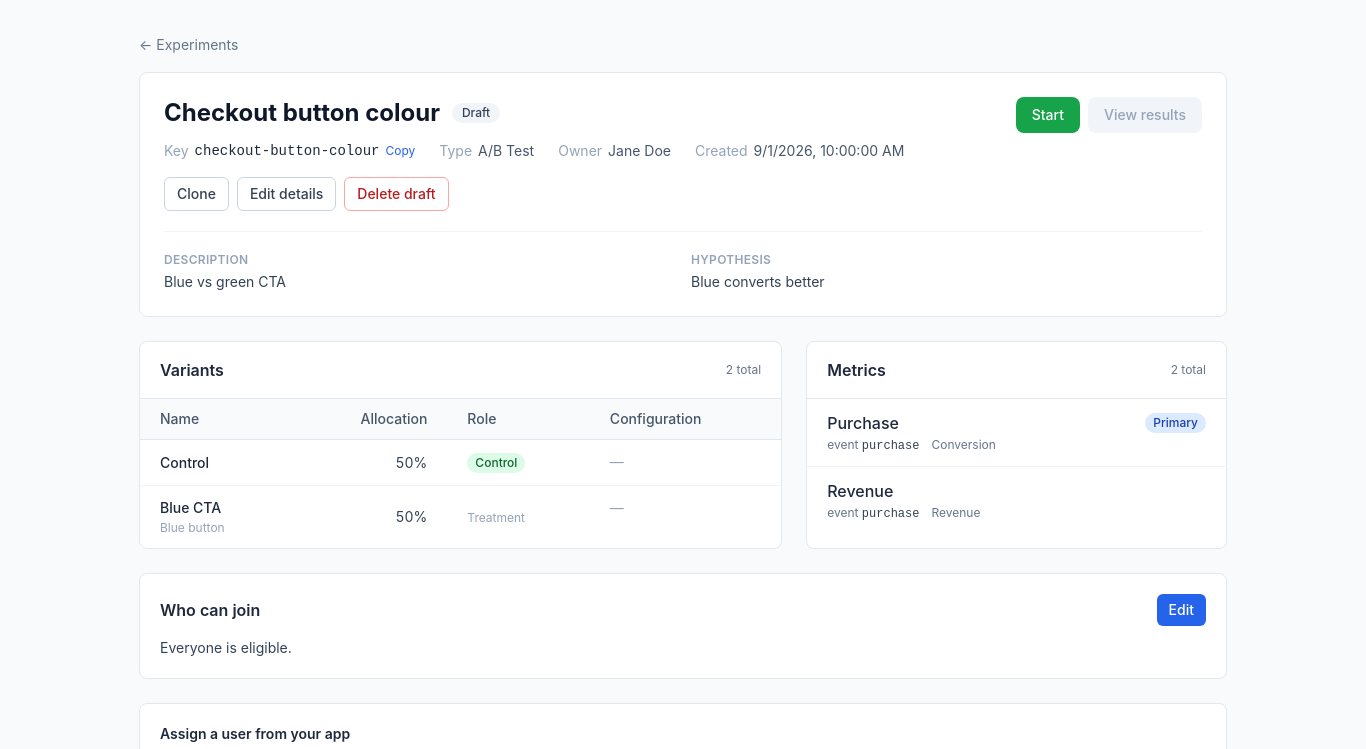
ExperimentDetailPage — the owner's name (#921) › keeps the name after Edit details is saved
The image size is (1366, 749).
Click the button with test id "experiment-edit-details" at (287, 194), box [237,177,336,211]
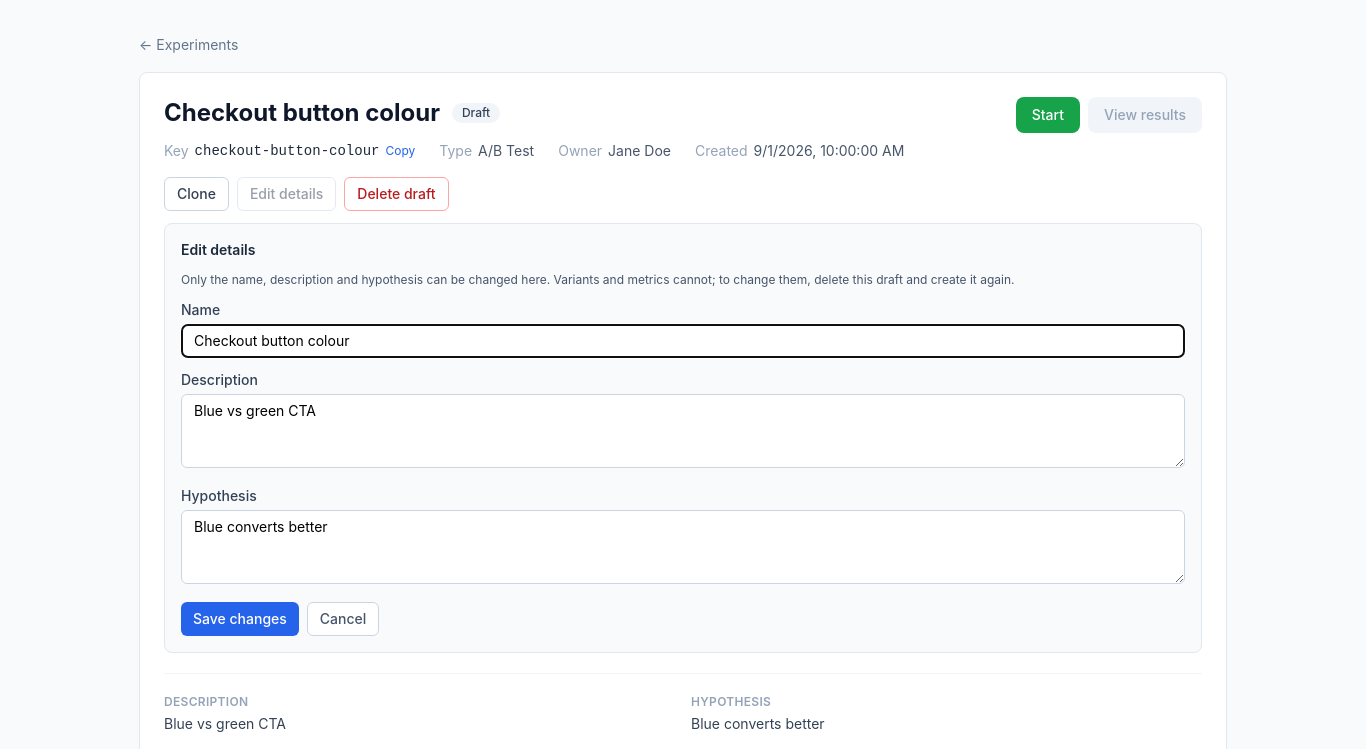
Replace the text in the field with test id "manage-edit-name" with "Renamed" at (683, 341), box [181,324,1185,358]
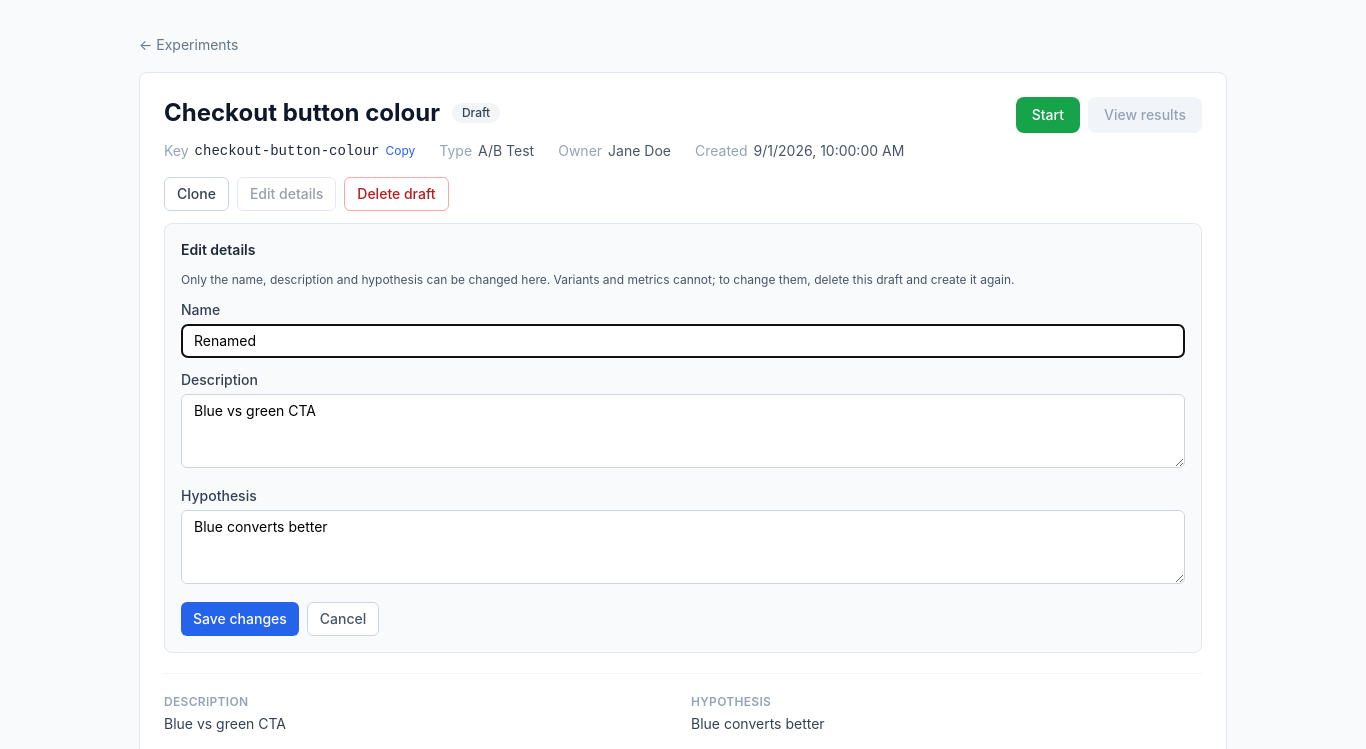
Click the button with test id "manage-edit-save" at (240, 619), box [181,602,299,636]
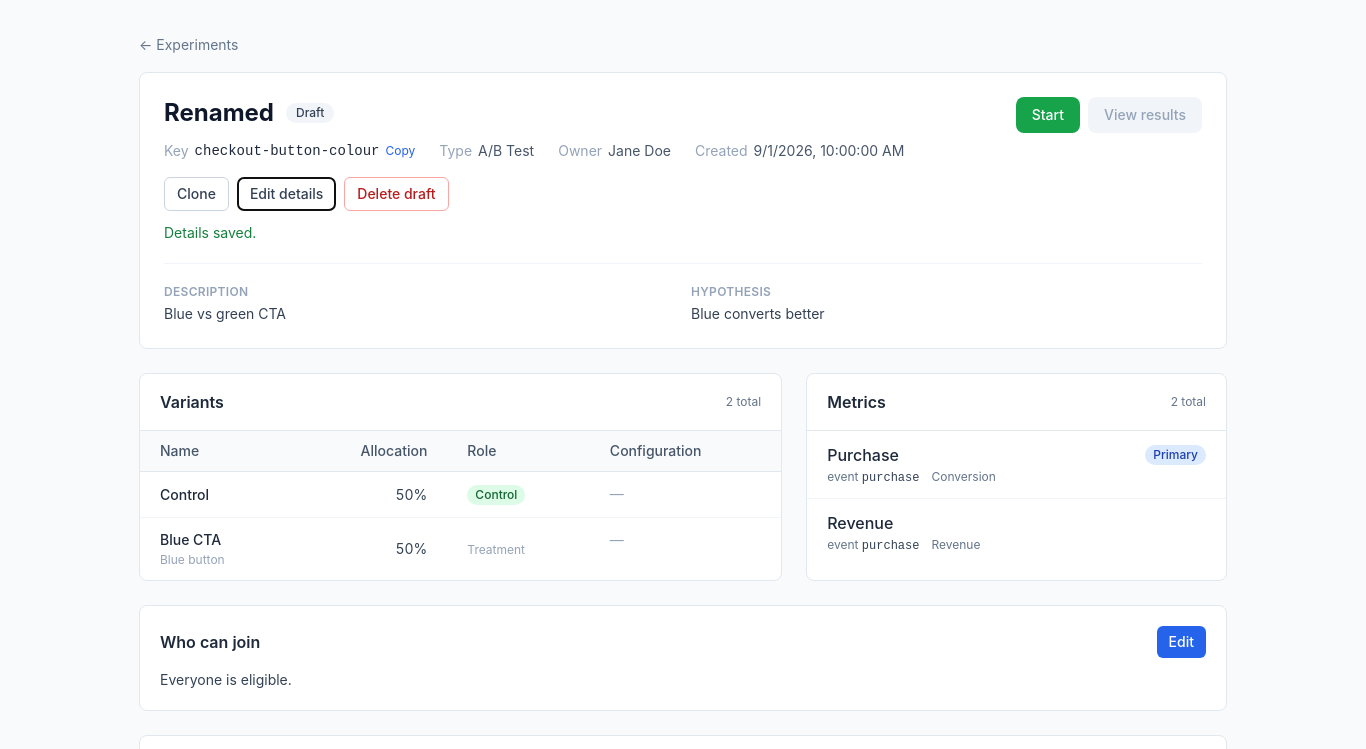
expect the text with test id "experiment-owner" reads "Jane Doe": met, box [608,142,671,159]
expect the message "Details saved." is shown: met, box [164,224,256,241]
expect the heading with test id "experiment-name" reads "Renamed": met, box [164,98,274,127]
